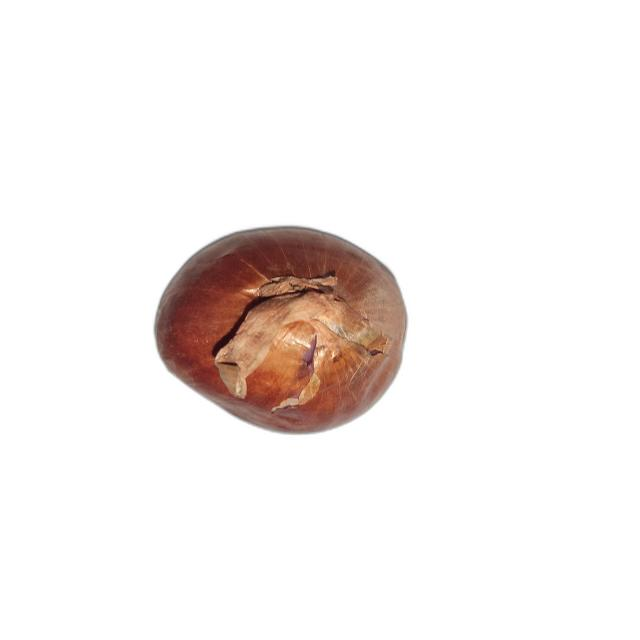onion: (156, 226, 410, 437)
